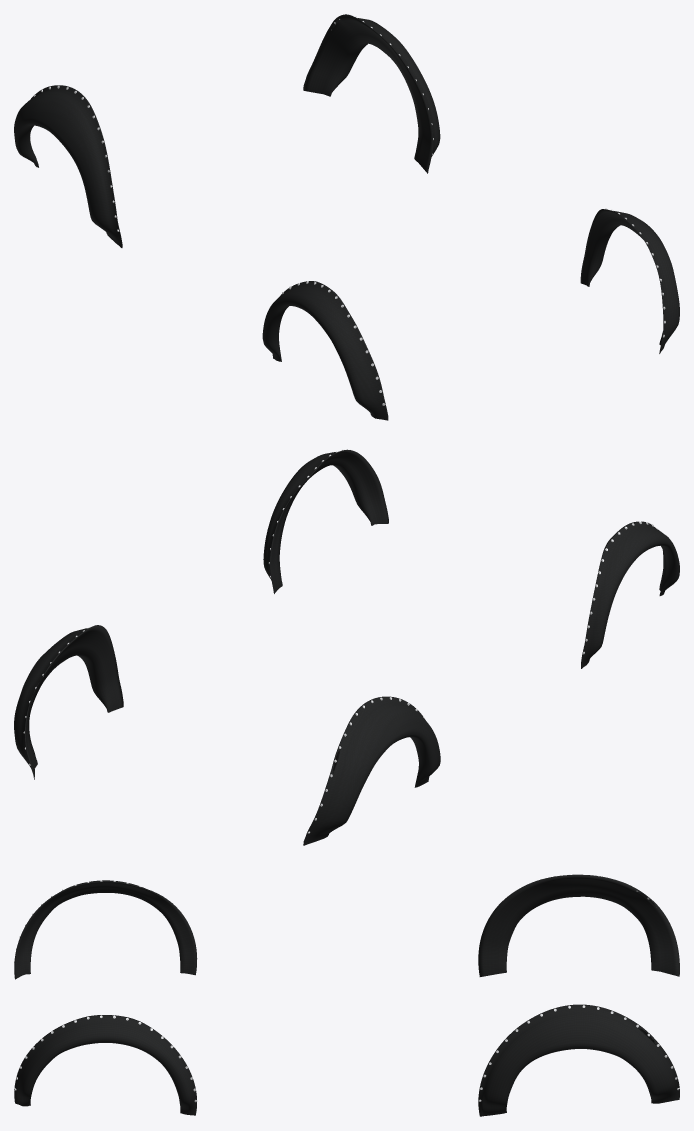
File: WB02_widebody_fenders_carbon.glb
The picture shows the model from 3 angles, top to bottom: view 1: azimuth 30°, elevation 25°; view 2: azimuth 150°, elevation 25°; view 3: azimuth 270°, elevation 25°; orthographic projection. The views are drawn at different scales.
Visible parts, largest first — view 1: MOD_NC_WB02_rear_R, MOD_NC_WB02_rear_L, MOD_NC_WB02_front_R, MOD_NC_WB02_front_L; view 2: MOD_NC_WB02_rear_R, MOD_NC_WB02_rear_L, MOD_NC_WB02_front_R, MOD_NC_WB02_front_L; view 3: MOD_NC_WB02_rear_L, MOD_NC_WB02_rear_R, MOD_NC_WB02_front_L, MOD_NC_WB02_front_R.
Part boxes in pixels (<box>): MOD_NC_WB02_rear_R: <box>14,85,122,247</box>; MOD_NC_WB02_rear_L: <box>303,14,440,173</box>; MOD_NC_WB02_front_R: <box>262,281,388,420</box>; MOD_NC_WB02_front_L: <box>580,209,679,353</box>; MOD_NC_WB02_rear_R: <box>303,696,440,845</box>; MOD_NC_WB02_rear_L: <box>14,625,123,779</box>; MOD_NC_WB02_front_R: <box>581,521,679,668</box>; MOD_NC_WB02_front_L: <box>263,449,388,593</box>; MOD_NC_WB02_rear_L: <box>478,1004,679,1116</box>; MOD_NC_WB02_rear_R: <box>478,874,679,976</box>; MOD_NC_WB02_front_L: <box>14,1015,196,1115</box>; MOD_NC_WB02_front_R: <box>14,880,197,979</box>.
Size of the model in its own units: 1.84 by 0.5798 by 3.26.
Materials: 2 (1 with a texture image).
